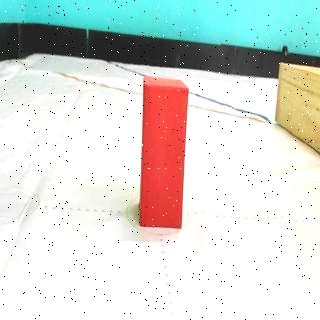redbox: (138, 76, 190, 229)
